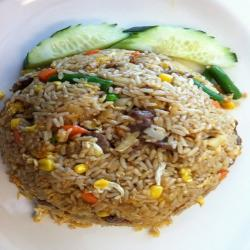rice: (10, 67, 237, 235)
